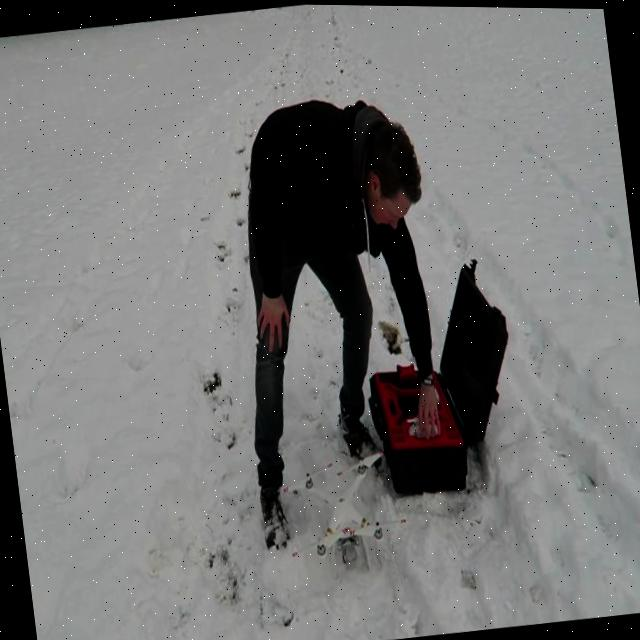drone: (276, 441, 406, 577)
